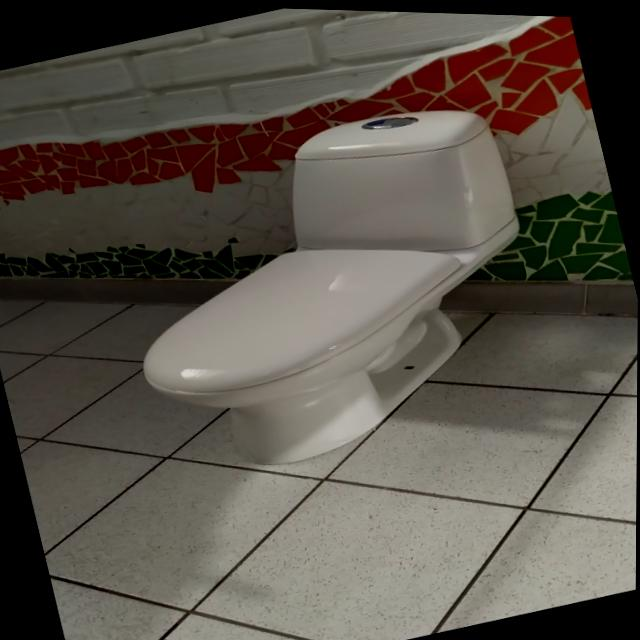toilet: (94, 78, 567, 497)
